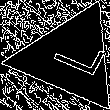L_NW: (38, 33, 102, 82)
